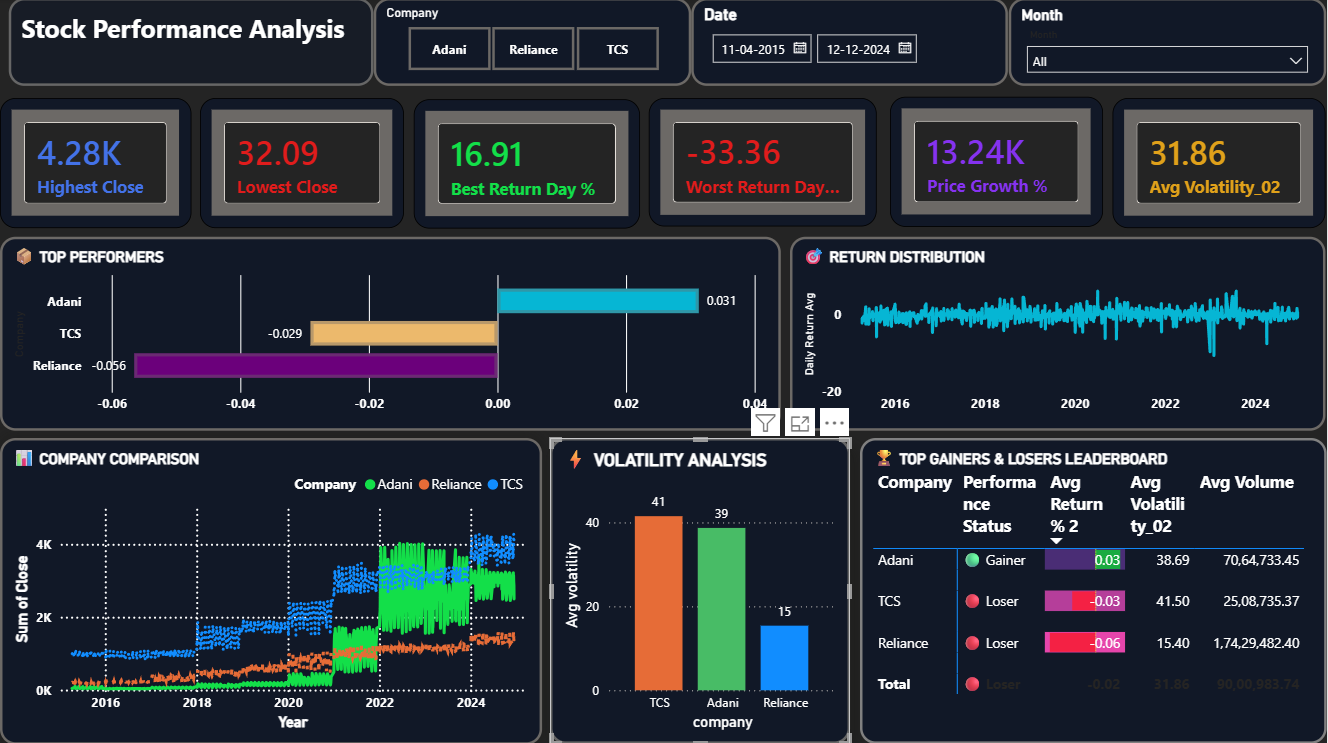

What the dashboard file says about the page in this screenshot:
{"tool":"powerbi","page":{"name":"📈 Stock Performance Analysis","canvas":[1280,720],"ordinal":1},"visuals":[{"type":"textbox","box":[8.6,0,352.1,85],"z":0},{"type":"slicer","title":"Date","fields":{"Values":["feature_engineered_stock_data.Date"]},"box":[667.3,0,305.4,85],"z":1000},{"type":"lineChart","title":"📊 COMPANY COMPARISON","fields":{"Series":["feature_engineered_stock_data.Company"],"Category":["feature_engineered_stock_data.Date.Variation.Date Hierarchy.Year","feature_engineered_stock_data.Date.Variation.Date Hierarchy.Quarter","feature_engineered_stock_data.Date.Variation.Date Hierarchy.Month","feature_engineered_stock_data.Date.Variation.Date Hierarchy.Day"],"Y":["Sum(feature_engineered_stock_data.Close)"]},"box":[0,424.7,523.3,295.8],"z":2000},{"type":"slicer","title":"Month","fields":{"Values":["feature_engineered_stock_data.Month"]},"box":[973.9,0,306.6,85],"z":3000},{"type":"cardVisual","fields":{"Data":["Measure_Table_02.Highest Close"]},"box":[0,96,184.7,125.6],"z":4000},{"type":"cardVisual","fields":{"Data":["Measure_Table_02.Lowest Close"]},"box":[193.3,96,197,125.6],"z":5000},{"type":"cardVisual","fields":{"Data":["Measure_Table_02.Price Growth %"]},"box":[859.4,94.8,205.6,125.6],"z":6000},{"type":"cardVisual","fields":{"Data":["Measure_Table_02.Avg Volatility_02"]},"box":[1073.7,96,205.6,125.6],"z":7000},{"type":"cardVisual","fields":{"Data":["Measure_Table_02.Worst Return Day %"]},"box":[626.7,96,220.4,124.4],"z":8000},{"type":"cardVisual","fields":{"Data":["Measure_Table_02.Best Return Day %"]},"box":[399.3,97.2,218,124.8],"z":9000},{"type":"slicer","title":"Company","fields":{"Values":["feature_engineered_stock_data.Company"]},"box":[360.8,0,306.6,85],"z":10000},{"type":"clusteredBarChart","title":"📦 TOP PERFORMERS","fields":{"Category":["feature_engineered_stock_data.Company"],"Y":["Measure_Table_02.Avg Return % 2"]},"box":[0,230.2,753.5,187.2],"z":11000},{"type":"areaChart","title":"🎯 RETURN DISTRIBUTION","fields":{"Y":["Measure_Table_02.Daily Return Avg"],"Category":["feature_engineered_stock_data.Date.Variation.Date Hierarchy.Year","feature_engineered_stock_data.Date.Variation.Date Hierarchy.Quarter","feature_engineered_stock_data.Date.Variation.Date Hierarchy.Month","feature_engineered_stock_data.Date.Variation.Date Hierarchy.Day"]},"box":[762.1,230.2,517.1,187.2],"z":12000},{"type":"clusteredColumnChart","title":"⚡ VOLATILITY ANALYSIS","fields":{"Category":["feature_engineered_stock_data.Company"],"Y":["Measure_Table_02.Avg Volatility_02"]},"box":[530.7,424.8,289.3,295.5],"z":13000},{"type":"pivotTable","title":"🏆 TOP GAINERS & LOSERS LEADERBOARD","fields":{"Rows":["feature_engineered_stock_data.Company"],"Values":["Measure_Table_02.Performance Status","Measure_Table_02.Avg Return % 2","Measure_Table_02.Avg Volatility_02","Ranking Measure.Avg Volume"]},"box":[829.9,424.8,450.6,295.5],"z":14000}]}

Visuals, with their boxes in screenshot pixels (x1, y1, x2, y2), scaled from the page's 1280x720 canvas onto the 1328x743 screenshot:
textbox: (9, 0, 374, 88)
"Date" slicer: (692, 0, 1009, 88)
"📊 COMPANY COMPARISON" lineChart: (0, 438, 543, 742)
"Month" slicer: (1010, 0, 1327, 88)
cardVisual - Measure_Table_02.Highest Close: (0, 99, 192, 229)
cardVisual - Measure_Table_02.Lowest Close: (201, 99, 405, 229)
cardVisual - Measure_Table_02.Price Growth %: (892, 98, 1105, 227)
cardVisual - Measure_Table_02.Avg Volatility_02: (1114, 99, 1327, 229)
cardVisual - Measure_Table_02.Worst Return Day %: (650, 99, 879, 227)
cardVisual - Measure_Table_02.Best Return Day %: (414, 100, 640, 229)
"Company" slicer: (374, 0, 692, 88)
"📦 TOP PERFORMERS" clusteredBarChart: (0, 238, 782, 431)
"🎯 RETURN DISTRIBUTION" areaChart: (791, 238, 1327, 431)
"⚡ VOLATILITY ANALYSIS" clusteredColumnChart: (551, 438, 851, 742)
"🏆 TOP GAINERS & LOSERS LEADERBOARD" pivotTable: (861, 438, 1327, 742)
